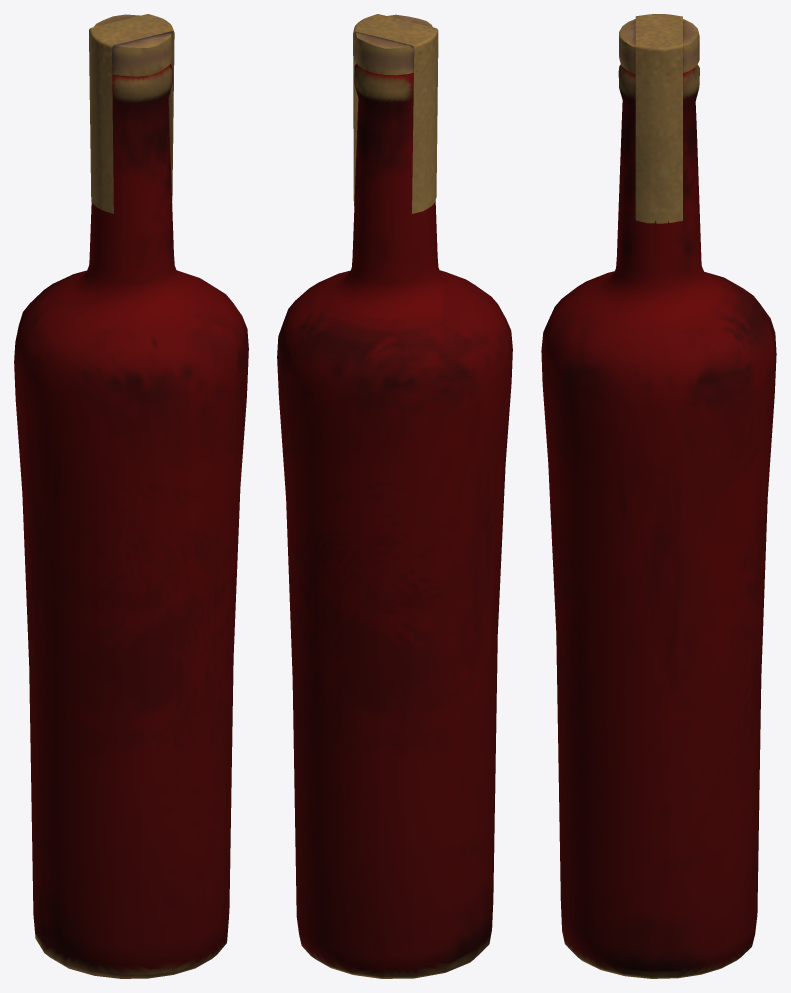
File: SM_Bottle8.fbx
3 renders of one model, left to right at view 1: azimuth 30°, elevation 25°; view 2: azimuth 150°, elevation 25°; view 3: azimuth 270°, elevation 25°, orthographic.
Parts seen in each view (by area): view 1: SM_Bottle8_LOD0; view 2: SM_Bottle8_LOD0; view 3: SM_Bottle8_LOD0.
Boxes of the visible parts, bbox=[...] form: SM_Bottle8_LOD0: bbox=[14, 14, 248, 978]; SM_Bottle8_LOD0: bbox=[277, 14, 512, 978]; SM_Bottle8_LOD0: bbox=[541, 14, 776, 978].
Bounding box in the file's own units: 10.46 × 10.46 × 44.74.
Materials: 1 (1 with a texture image).
